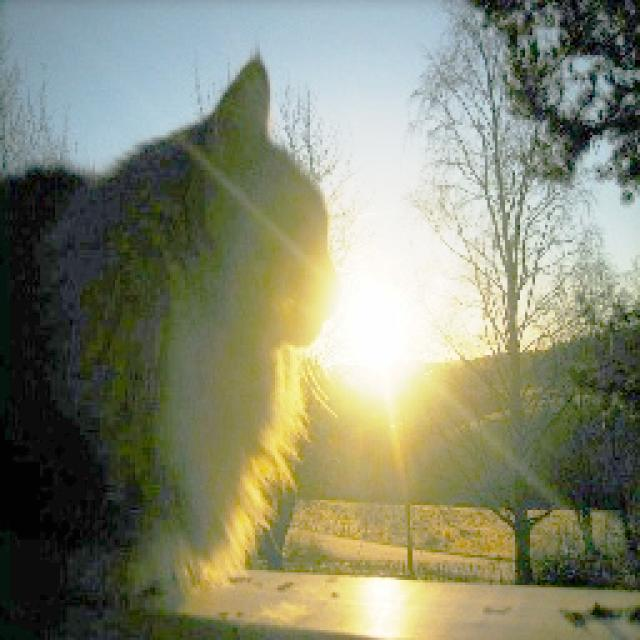cat: (2, 50, 336, 640)
